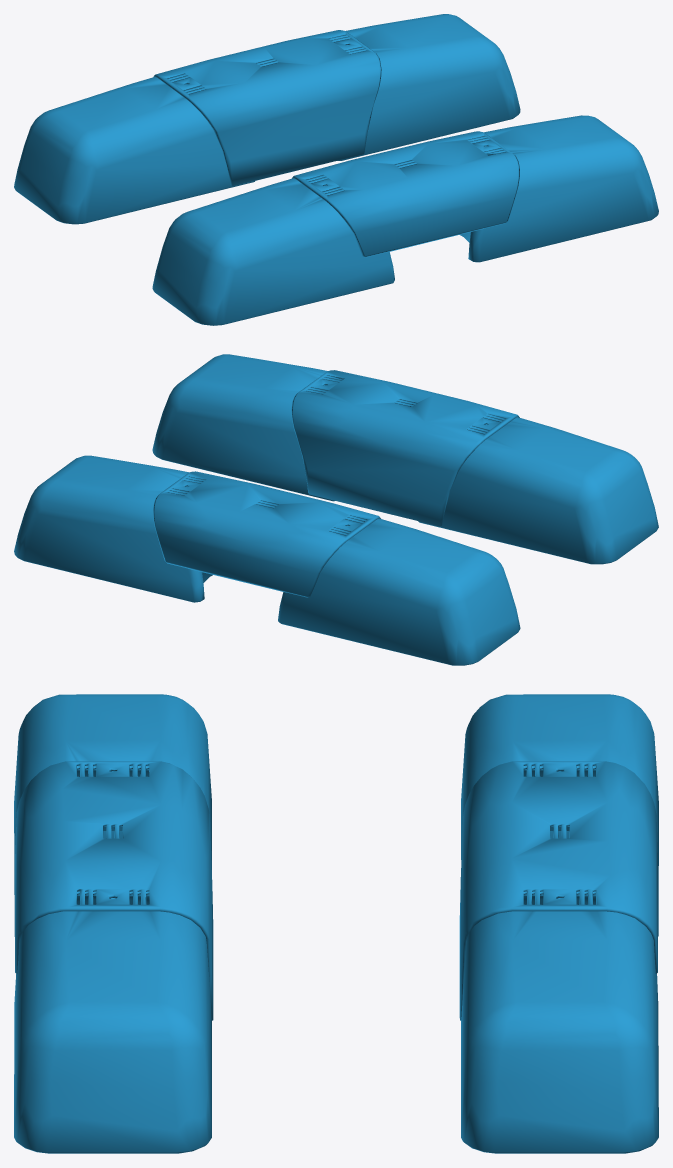
Rendered from bluerov2_heavy_38_153_208_001.obj.
3 views of the same model, one above another, from view 1: azimuth 30°, elevation 25°; view 2: azimuth 150°, elevation 25°; view 3: azimuth 270°, elevation 25° (orthographic). The views are drawn at different scales.
Visible parts, largest first — view 1: BROV2-HEAVY-45.015_BROV2-HEAVY-45.016; view 2: BROV2-HEAVY-45.015_BROV2-HEAVY-45.016; view 3: BROV2-HEAVY-45.015_BROV2-HEAVY-45.016.
Boxes of the visible parts, left/top/right/bottom form: BROV2-HEAVY-45.015_BROV2-HEAVY-45.016: left=14, top=14, right=658, bottom=325; BROV2-HEAVY-45.015_BROV2-HEAVY-45.016: left=14, top=354, right=658, bottom=665; BROV2-HEAVY-45.015_BROV2-HEAVY-45.016: left=14, top=694, right=658, bottom=1153.
Bounding box in the file's own units: 16.73 × 3.01 × 12.5.
